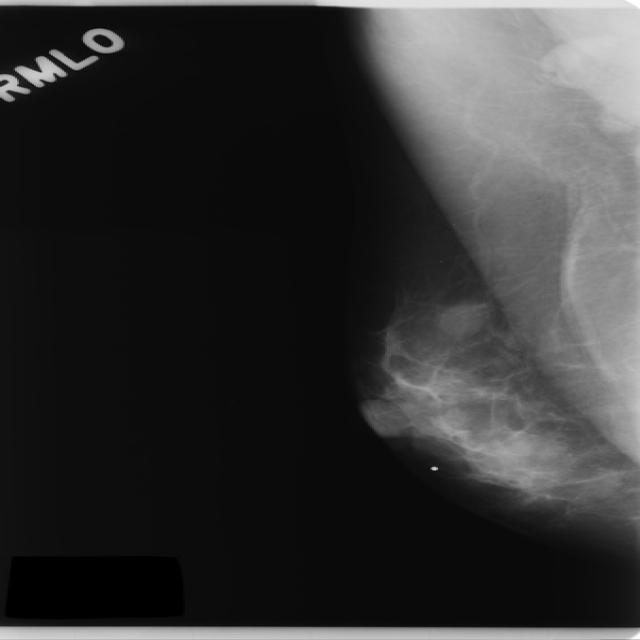tumour: (434, 300, 489, 339)
